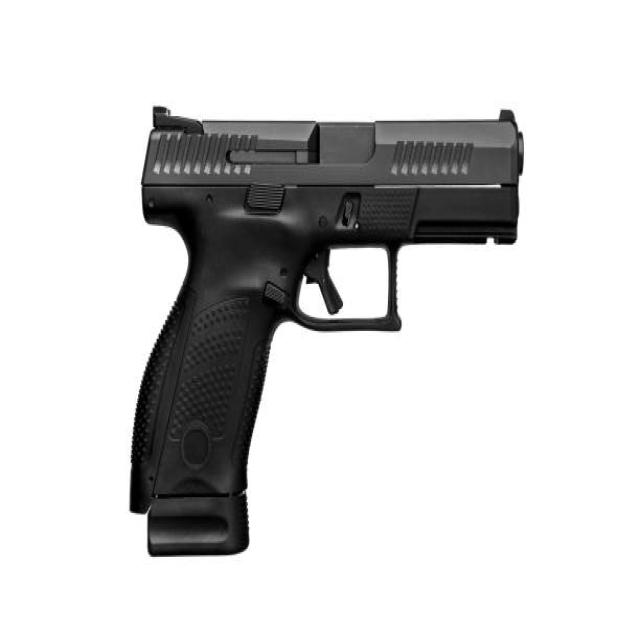pistol: (129, 94, 538, 562)
